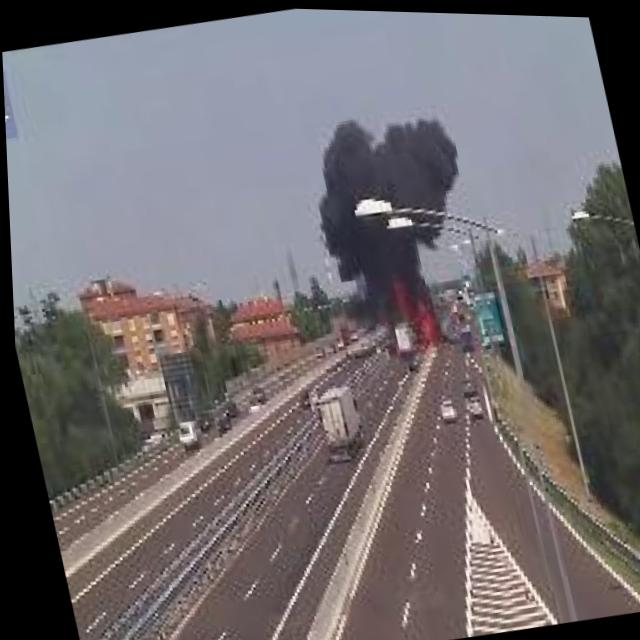fire: (384, 268, 443, 356)
